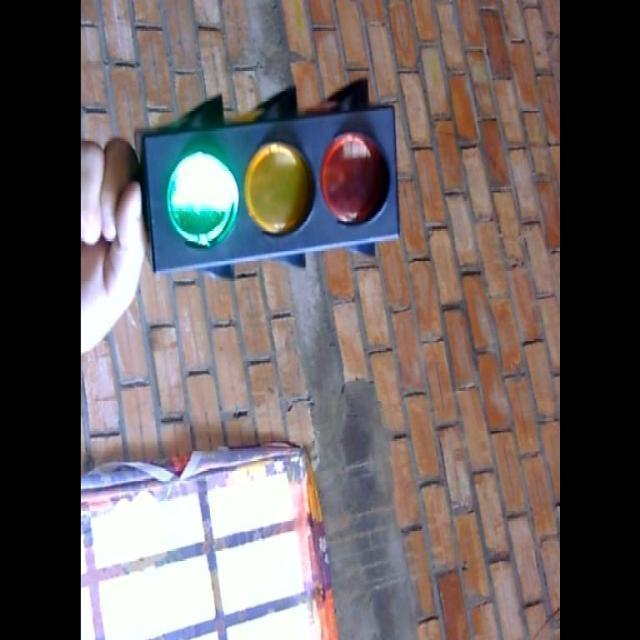green_light: (139, 79, 397, 269)
